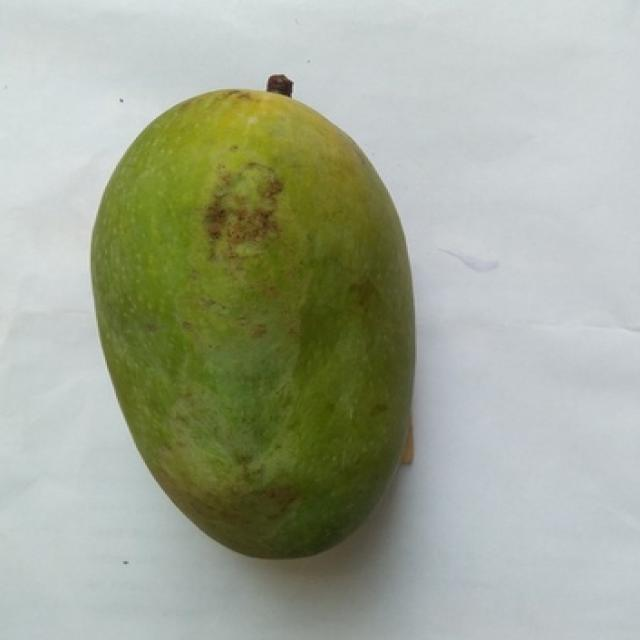Mango: (92, 89, 412, 558)
